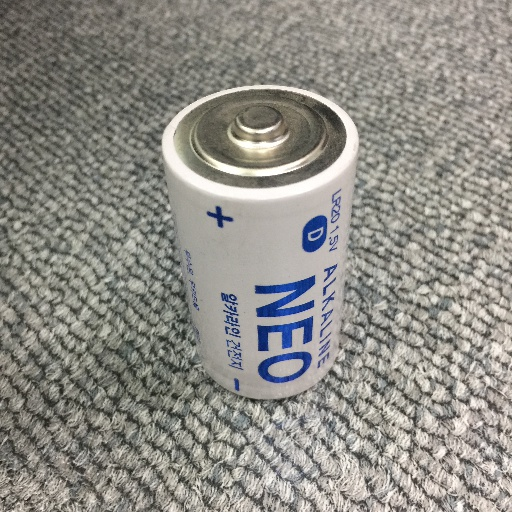Battery_0: (147, 77, 370, 407)
